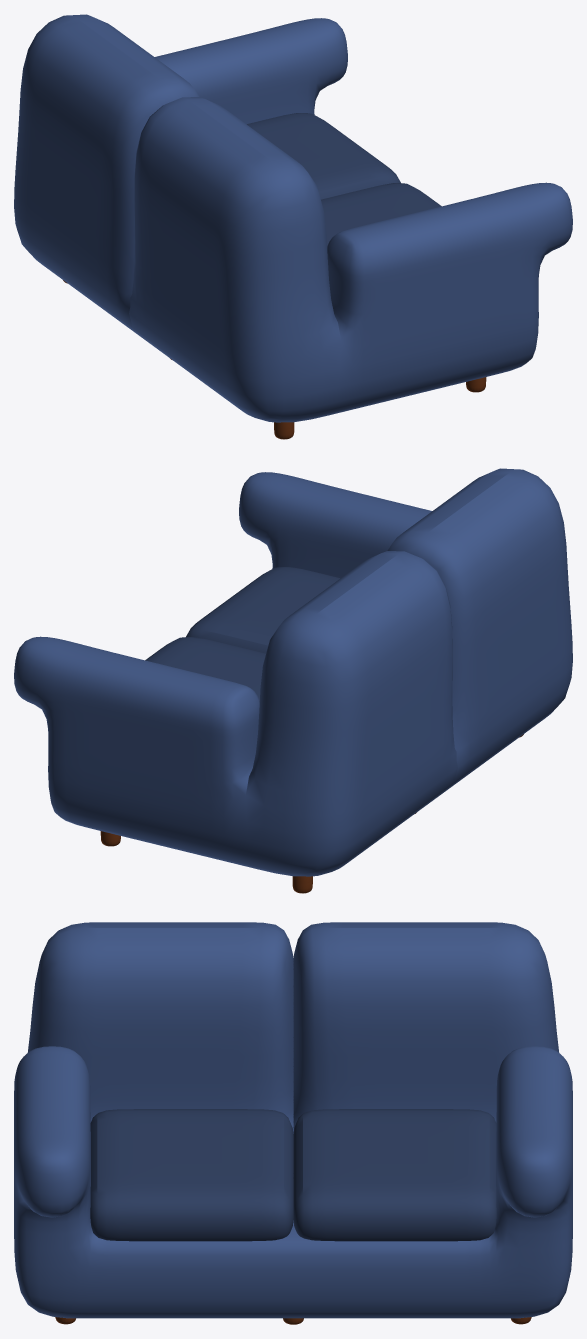
File: Sofa.fbx
3 views of the same model, one above another, from view 1: azimuth 30°, elevation 25°; view 2: azimuth 150°, elevation 25°; view 3: azimuth 270°, elevation 25° (orthographic). The views are drawn at different scales.
Visible parts, largest first — view 1: Cube.105, Cube.106; view 2: Cube.105, Cube.106; view 3: Cube.105, Cube.106.
Part boxes in pixels (x1,y1,x2,y2): Cube.105: (14, 14, 572, 439); Cube.106: (247, 113, 441, 246); Cube.105: (14, 468, 572, 893); Cube.106: (145, 567, 339, 700); Cube.105: (14, 922, 572, 1324); Cube.106: (90, 1109, 496, 1241).
Size of the model in its own units: 972 by 763 by 1325.
